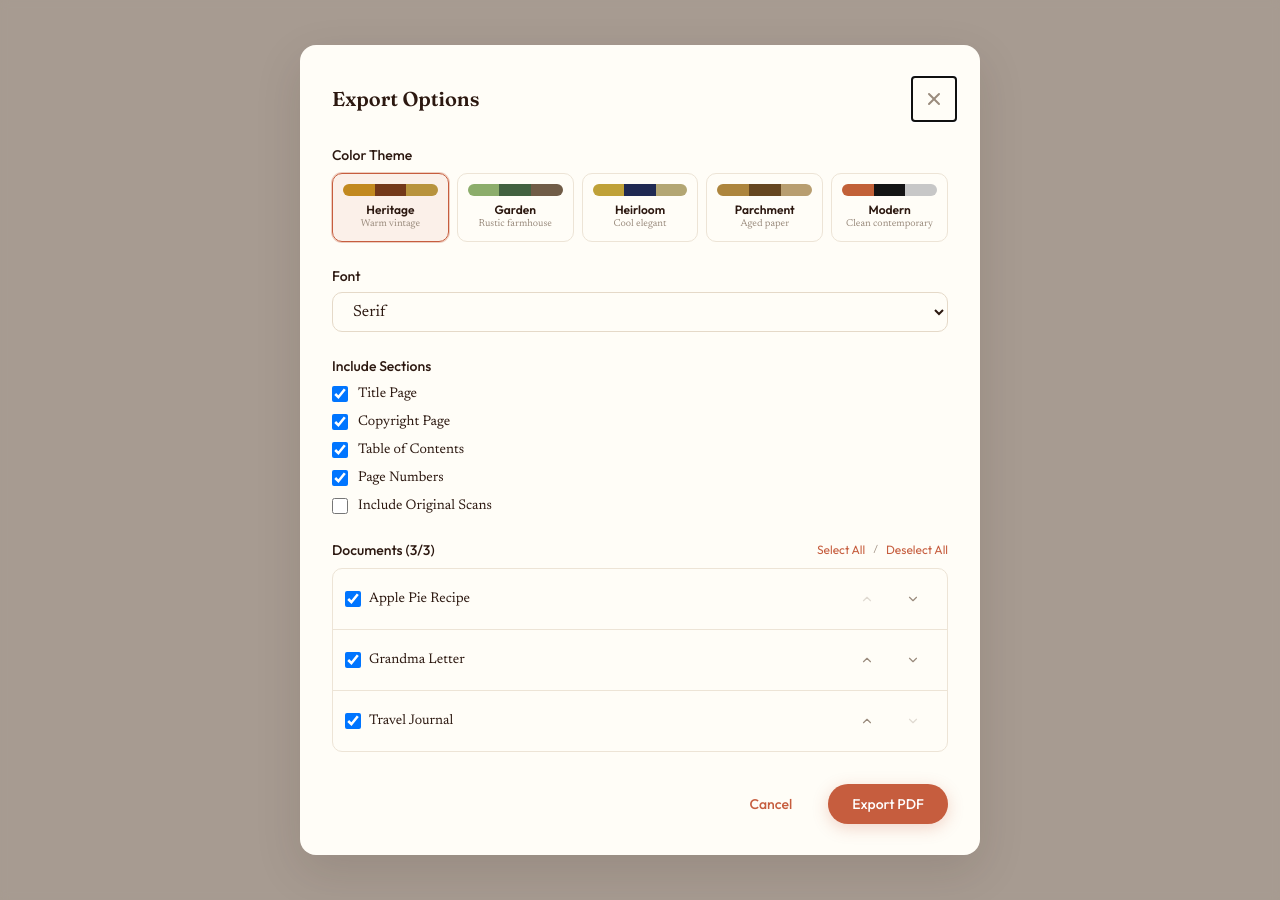
Test case: ExportOptionsModal › deselects all documents when Deselect All is clicked
Click the button "Deselect All": (917, 550) [886,542,948,558]
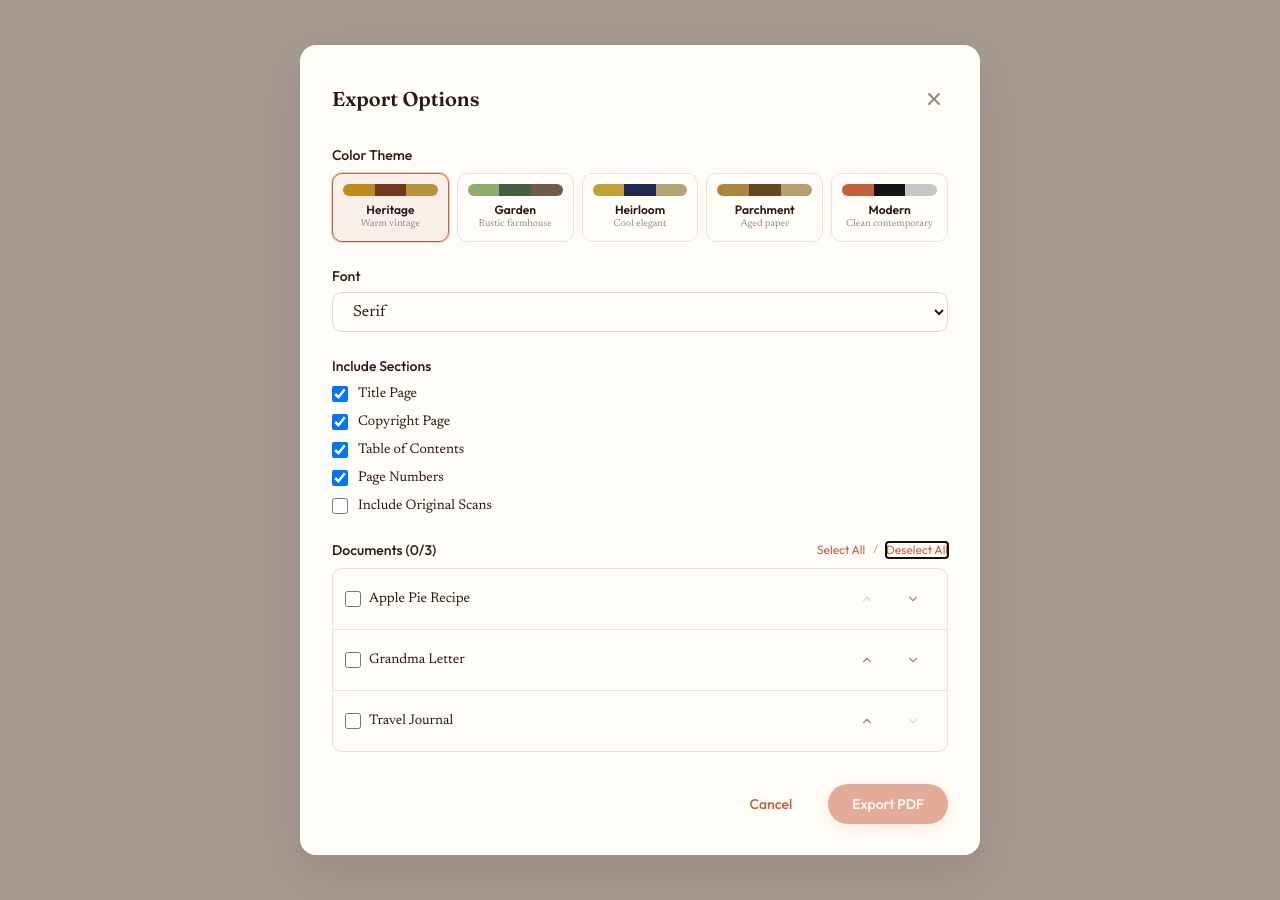
Check: the text "Documents (0/3)" is shown, box [332,540,436,560]
